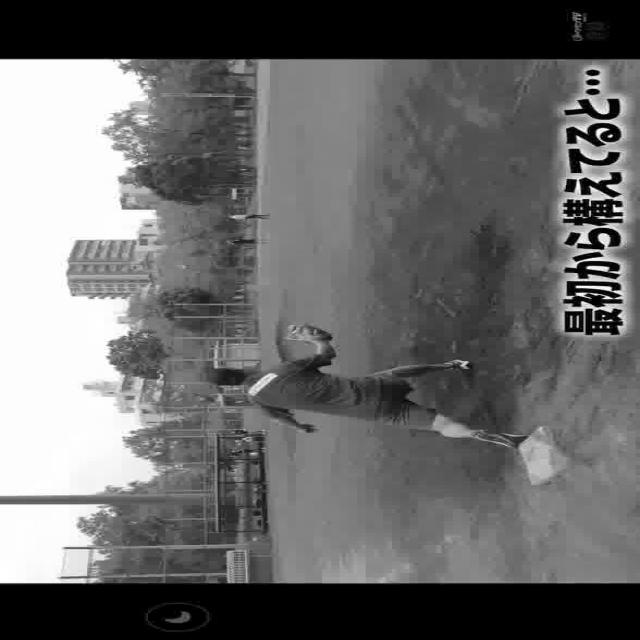base: (523, 425, 575, 484)
baseball: (182, 264, 191, 268)
baseball_glove: (288, 323, 336, 341)
shoe: (466, 426, 524, 448), (444, 356, 469, 368)
